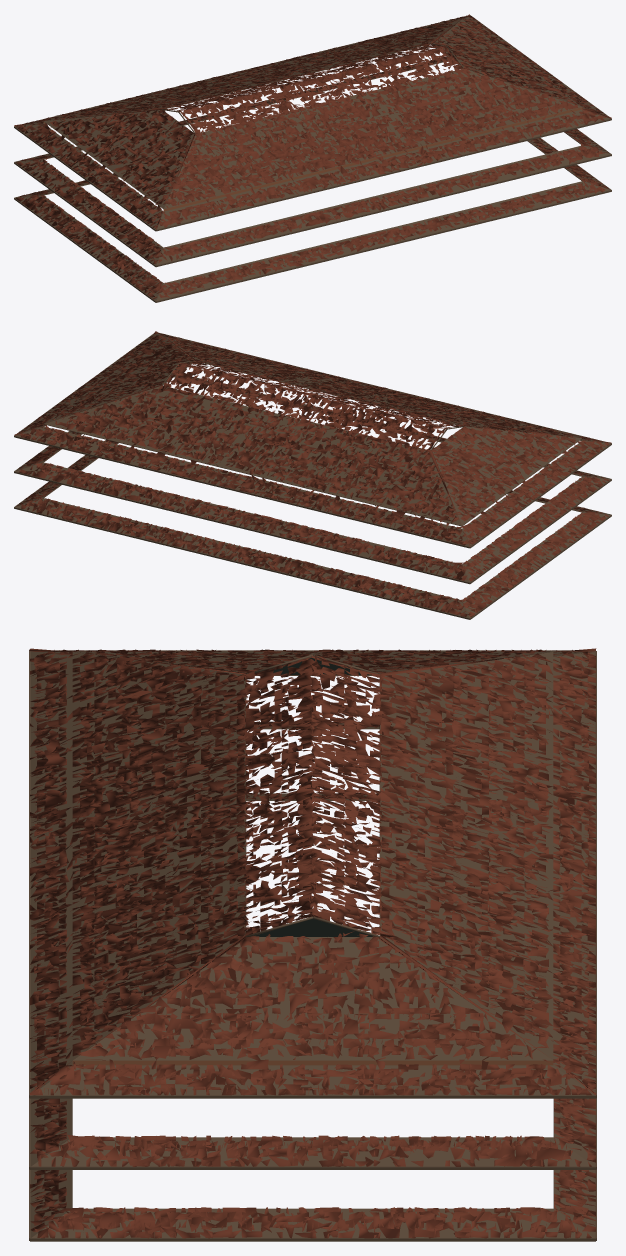
File: cubiertas.glb
3 views of the same model, one above another, from view 1: azimuth 30°, elevation 25°; view 2: azimuth 150°, elevation 25°; view 3: azimuth 270°, elevation 25° (orthographic). The views are drawn at different scales.
Parts seen in each view (by area): view 1: Dark stained roof timber, Clay terracotta 05, Clay terracotta 04, Clay terracotta 08, Clay terracotta 01, Clay terracotta 07, Clay terracotta 00, Clay terracotta 06, Clay terracotta 03, Clay terracotta 02, Clay-colored vertical attic fascia; view 2: Dark stained roof timber, Clay terracotta 08, Clay terracotta 07, Clay terracotta 04, Clay terracotta 00, Clay terracotta 03, Clay terracotta 05, Clay terracotta 02, Clay terracotta 01, Clay terracotta 06; view 3: Dark stained roof timber, Clay terracotta 07, Clay terracotta 04, Clay terracotta 01, Clay terracotta 00, Clay terracotta 08, Clay terracotta 06, Clay terracotta 02, Clay terracotta 05, Clay terracotta 03, Clay-colored vertical attic fascia, Dark ventilation recess.
Boxes of the visible parts, x1,y1,x2,y2 form: Dark stained roof timber: (14,15,611,302); Clay terracotta 05: (22,16,608,297); Clay terracotta 04: (14,14,611,295); Clay terracotta 08: (16,15,604,297); Clay terracotta 01: (16,17,608,292); Clay terracotta 07: (16,16,606,293); Clay terracotta 00: (27,17,608,299); Clay terracotta 06: (18,19,605,293); Clay terracotta 03: (17,17,602,297); Clay terracotta 02: (25,16,605,294); Clay-colored vertical attic fascia: (43,107,582,211); Dark stained roof timber: (14,333,611,619); Clay terracotta 08: (18,334,609,614); Clay terracotta 07: (17,333,609,617); Clay terracotta 04: (14,331,611,607); Clay terracotta 00: (21,334,608,611); Clay terracotta 03: (16,336,601,610); Clay terracotta 05: (19,333,603,612); Clay terracotta 02: (19,334,599,616); Clay terracotta 01: (27,335,601,611); Clay terracotta 06: (20,337,606,615); Dark stained roof timber: (29,650,596,1241); Clay terracotta 07: (30,649,595,1238); Clay terracotta 04: (29,648,596,1238); Clay terracotta 01: (30,649,595,1238); Clay terracotta 00: (30,649,595,1238); Clay terracotta 08: (30,649,595,1238); Clay terracotta 06: (31,649,595,1238); Clay terracotta 02: (30,649,595,1238); Clay terracotta 05: (30,649,595,1238); Clay terracotta 03: (30,649,595,1238); Clay-colored vertical attic fascia: (72,1060,553,1065); Dark ventilation recess: (254,657,372,936).
Size of the model in its own units: 48.8 by 11.94 by 26.3.
